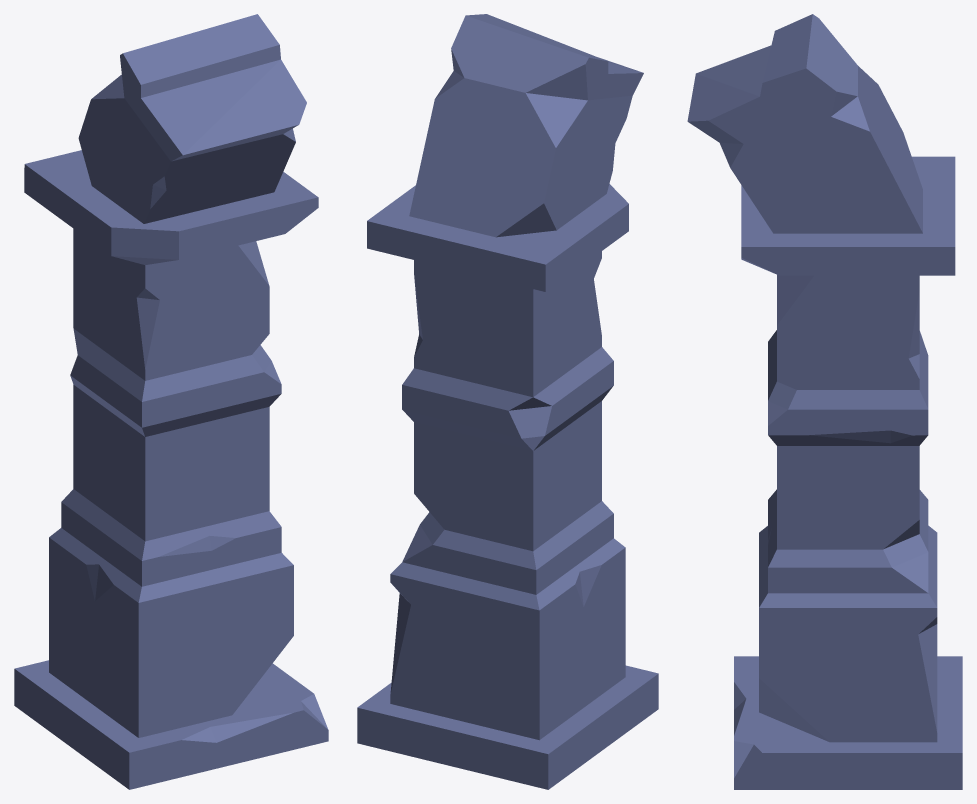
File: arch_1_dstr_3.fbx
The picture shows the model from 3 angles, left to right: view 1: azimuth 30°, elevation 25°; view 2: azimuth 150°, elevation 25°; view 3: azimuth 270°, elevation 25°; orthographic projection. The views are drawn at different scales.
Visible parts, largest first — view 1: arch_1_dstr_3; view 2: arch_1_dstr_3; view 3: arch_1_dstr_3.
Part boxes in pixels (box(x1,y1,x2,y2)): arch_1_dstr_3: box(14, 14, 328, 789); arch_1_dstr_3: box(357, 14, 658, 789); arch_1_dstr_3: box(687, 14, 962, 789).
Size of the model in its own units: 2.18 by 7.43 by 2.63.
